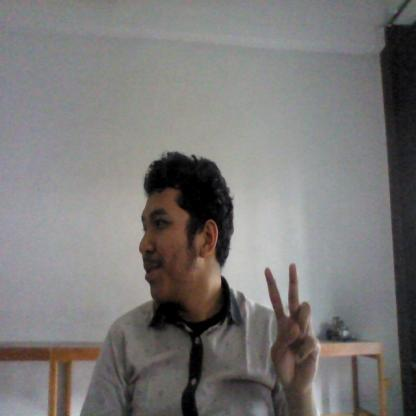V: (262, 262, 322, 396)
